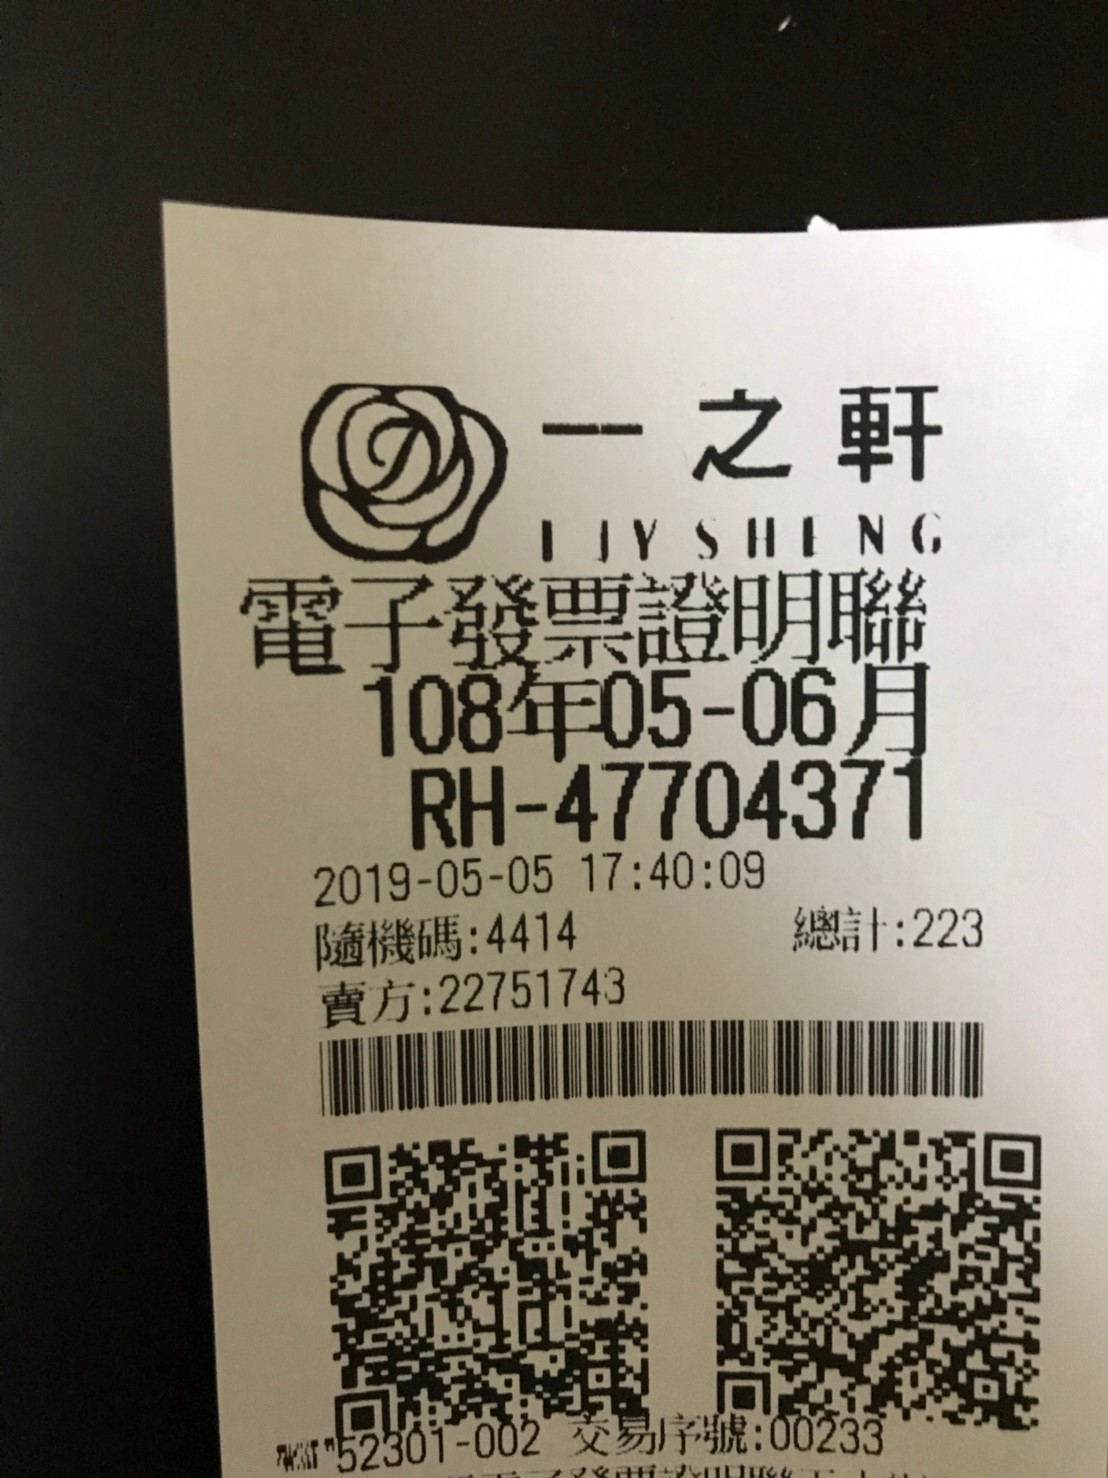Date_New: (365, 661, 928, 760)
Number_New: (551, 760, 928, 841)
